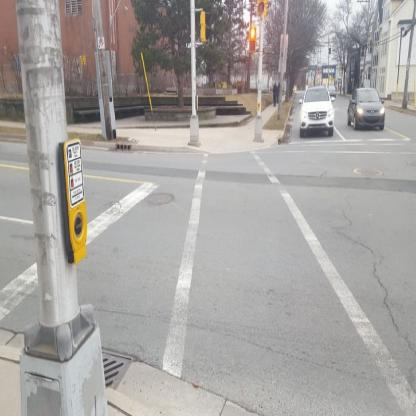Don-t Walk: (249, 24, 256, 49)
